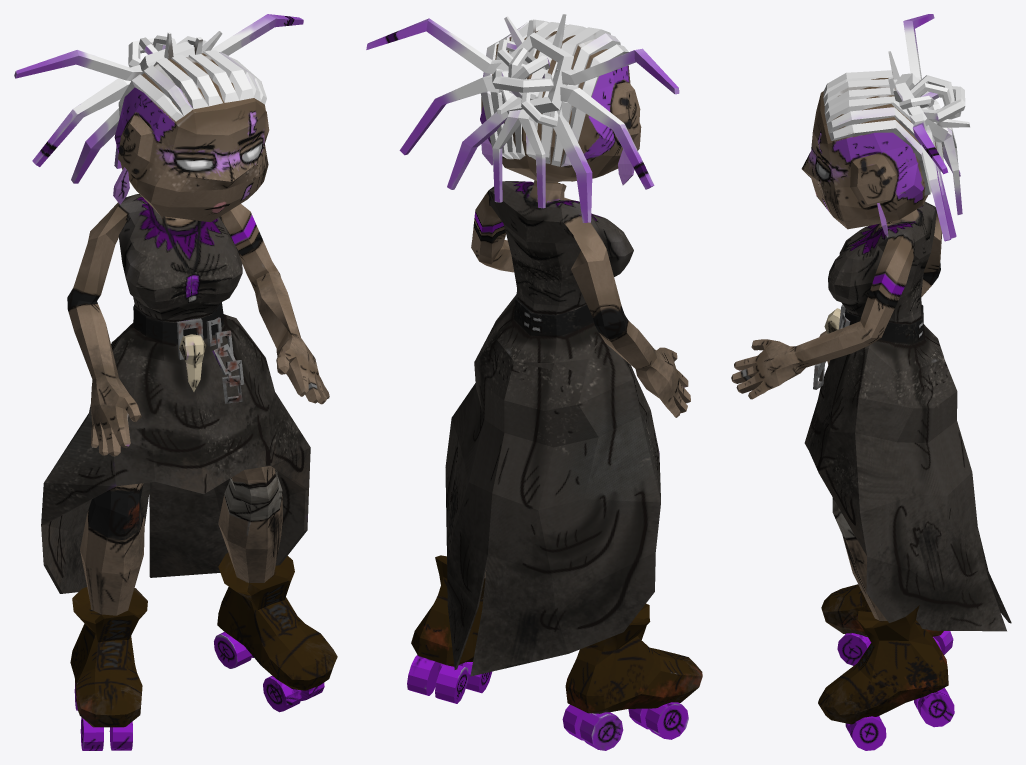
File: bruja_000037.obj
3 views of the same model, side by side, from view 1: azimuth 30°, elevation 25°; view 2: azimuth 150°, elevation 25°; view 3: azimuth 270°, elevation 25° (orthographic). The views are drawn at different scales.
Visible parts, largest first — view 1: Bruja_Plane.001; view 2: Bruja_Plane.001; view 3: Bruja_Plane.001.
Boxes of the visible parts, x1,y1,x2,y2 form: Bruja_Plane.001: (14, 14, 337, 750); Bruja_Plane.001: (366, 14, 702, 750); Bruja_Plane.001: (731, 14, 1011, 750).
Size of the model in its own units: 7.45 by 16.63 by 6.57.
